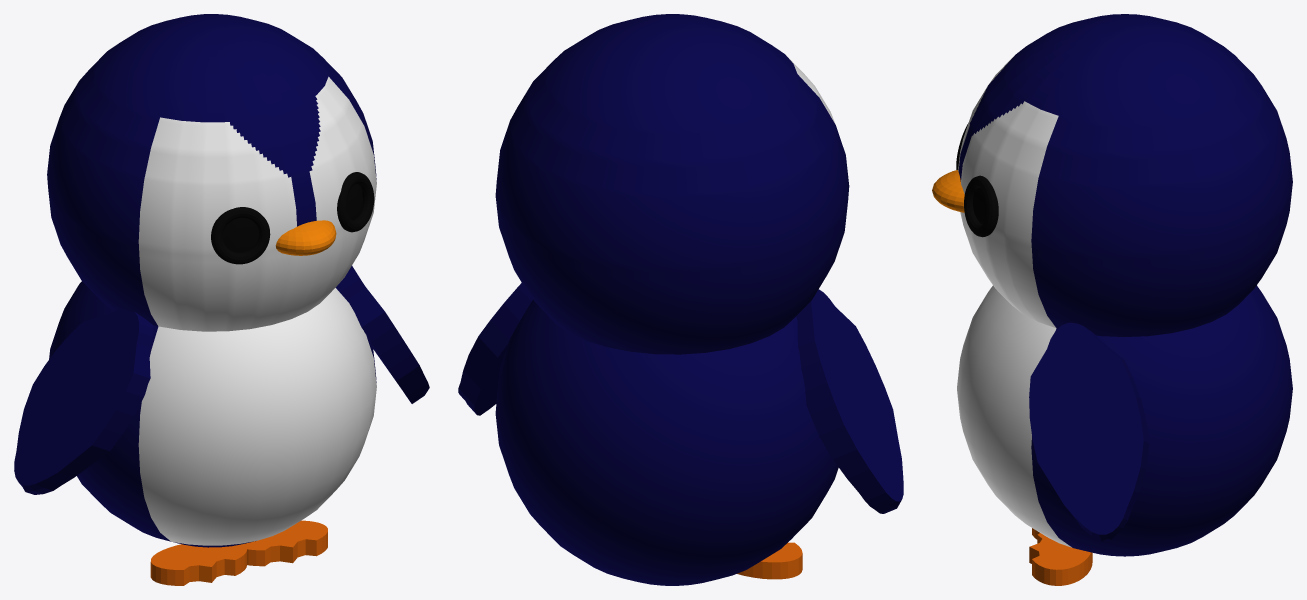
File: penguin.fbx
The picture shows the model from 3 angles, left to right: view 1: azimuth 30°, elevation 25°; view 2: azimuth 150°, elevation 25°; view 3: azimuth 270°, elevation 25°; orthographic projection. The views are drawn at different scales.
Parts seen in each view (by area): view 1: Sphere.001, Sphere, Cylinder.005, Cylinder.004, Cylinder.002, Cylinder.003, Torus.001, Sphere.002, Torus.002; view 2: Sphere.001, Sphere, Cylinder.005, Cylinder.004, Cylinder.002; view 3: Sphere.001, Sphere, Cylinder.004, Cylinder.003, Torus.002, Sphere.002.
Boxes of the visible parts, x1,y1,x2,y2 form: Sphere.001: [47, 14, 376, 331]; Sphere: [49, 281, 376, 547]; Cylinder.005: [14, 308, 153, 494]; Cylinder.004: [337, 266, 429, 403]; Cylinder.002: [150, 544, 246, 585]; Cylinder.003: [239, 520, 327, 566]; Torus.001: [211, 207, 270, 264]; Sphere.002: [275, 220, 336, 255]; Torus.002: [337, 172, 374, 232]; Sphere.001: [495, 14, 849, 354]; Sphere: [495, 300, 838, 585]; Cylinder.005: [796, 289, 903, 513]; Cylinder.004: [458, 283, 532, 415]; Cylinder.002: [737, 542, 802, 579]; Sphere.001: [958, 14, 1292, 336]; Sphere: [957, 285, 1292, 556]; Cylinder.004: [1029, 322, 1149, 542]; Cylinder.003: [1029, 533, 1092, 585]; Torus.002: [964, 175, 998, 237]; Sphere.002: [932, 170, 964, 212].
Size of the model in its own units: 28.46 by 33.9 by 21.48.
